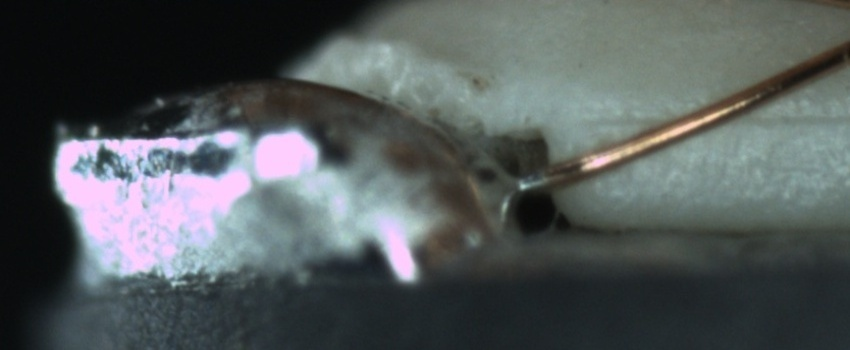DL: (602, 85, 850, 150)
TS: (519, 165, 546, 191)
